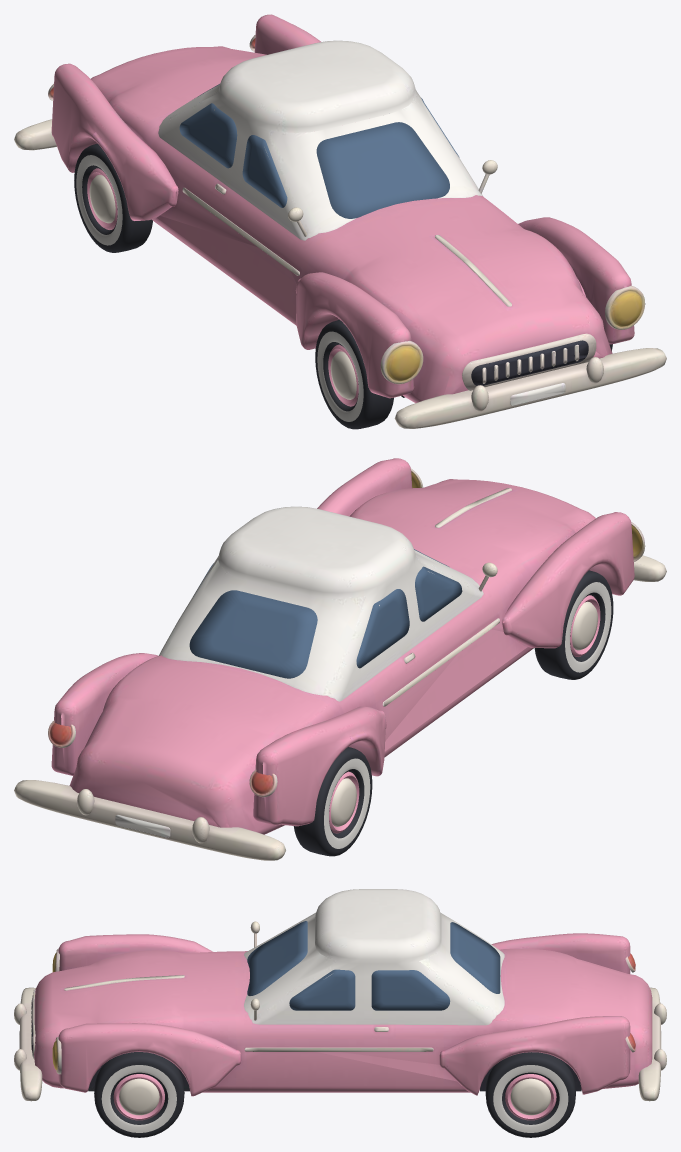
The model's file is classic-car-light.glb.
3 renders of one model, top to bottom at view 1: azimuth 30°, elevation 25°; view 2: azimuth 150°, elevation 25°; view 3: azimuth 270°, elevation 25°, orthographic. The views are drawn at different scales.
Parts seen in each view (by area): view 1: classic-car_body, classic-car_windows, classic-car_wheel_fr, classic-car_wheel_rr; view 2: classic-car_body, classic-car_windows, classic-car_wheel_rr, classic-car_wheel_fr; view 3: classic-car_body, classic-car_windows, classic-car_wheel_fl, classic-car_wheel_rl.
Boxes of the visible parts, <box> form: classic-car_body: <box>14,14,666,428</box>; classic-car_windows: <box>179,84,459,218</box>; classic-car_wheel_fr: <box>315,319,393,429</box>; classic-car_wheel_rr: <box>74,143,152,252</box>; classic-car_body: <box>14,458,666,860</box>; classic-car_windows: <box>189,549,462,678</box>; classic-car_wheel_rr: <box>293,747,372,856</box>; classic-car_wheel_fr: <box>534,570,613,679</box>; classic-car_body: <box>14,889,666,1101</box>; classic-car_windows: <box>247,921,500,1010</box>; classic-car_wheel_fl: <box>94,1052,184,1137</box>; classic-car_wheel_rl: <box>485,1052,575,1137</box>.
Size of the model in its own units: 1.86 by 1.44 by 4.84.
Materials: 18 (1 with a texture image).
